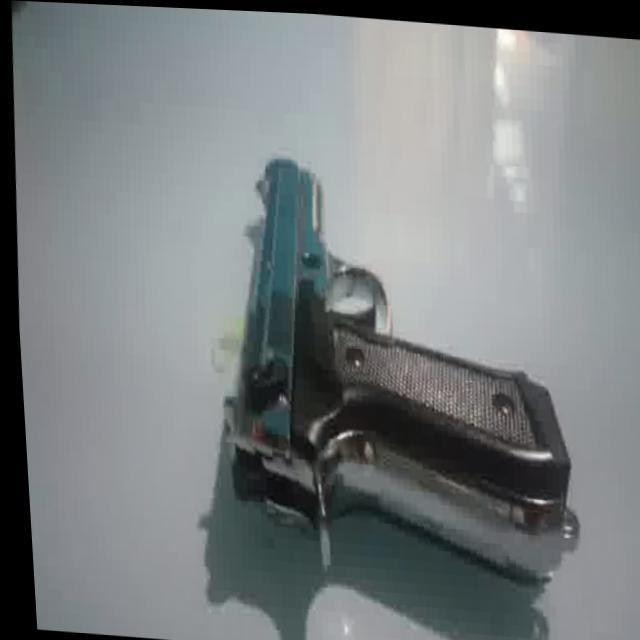weapon: (196, 147, 588, 582)
